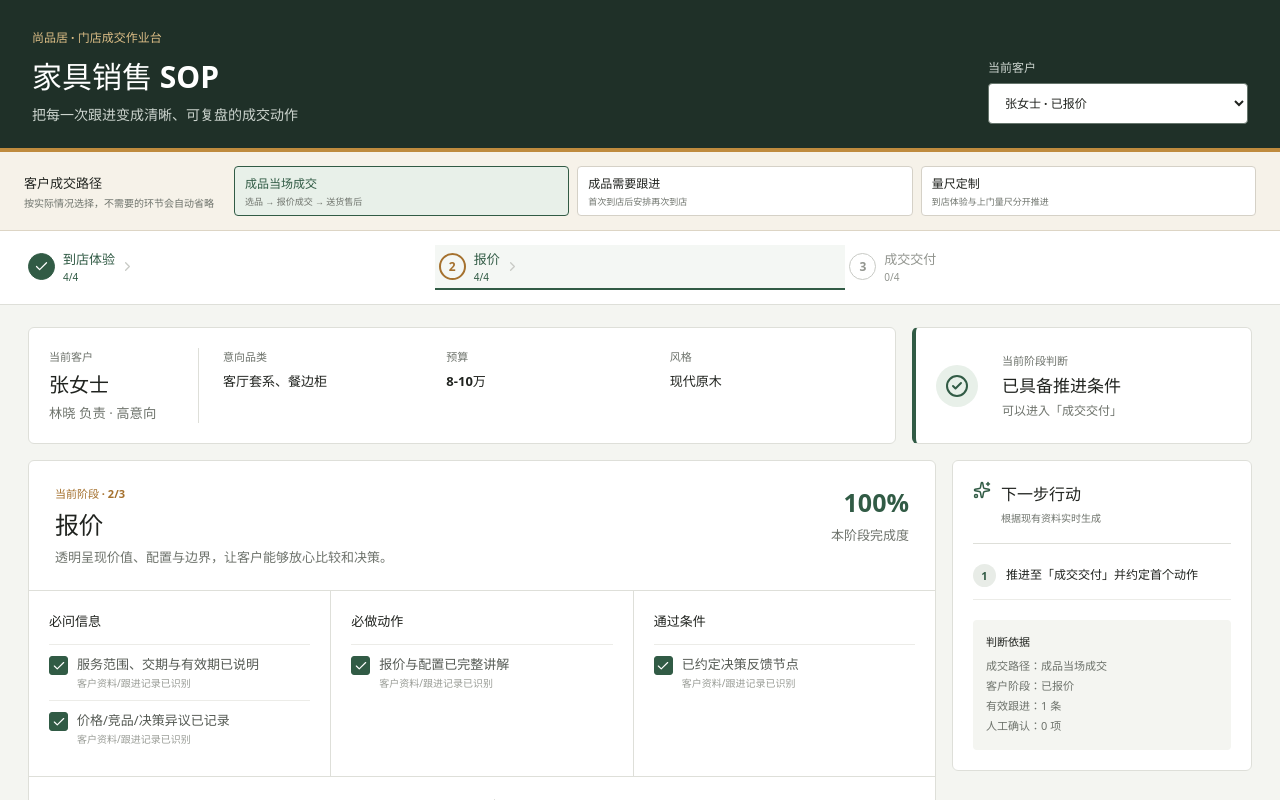
Scenario: SalesSopPage › switches paths and lets users open a separate stage from the stage track
Click the button "量尺定制 到店体验与上门量尺分开推进": (956, 184) [921, 166, 1256, 216]
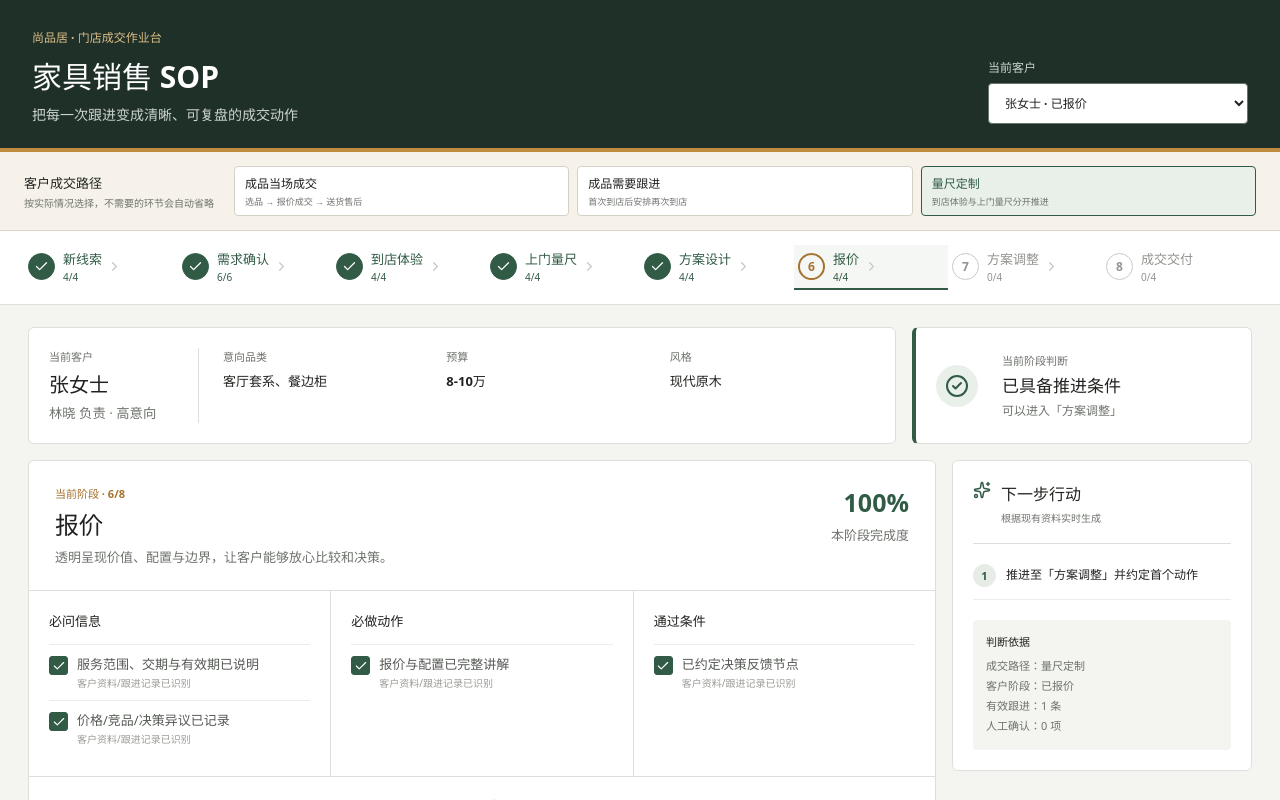
Click the button "上门量尺 4/4": (563, 268) [486, 245, 640, 290]
(page scrolled)
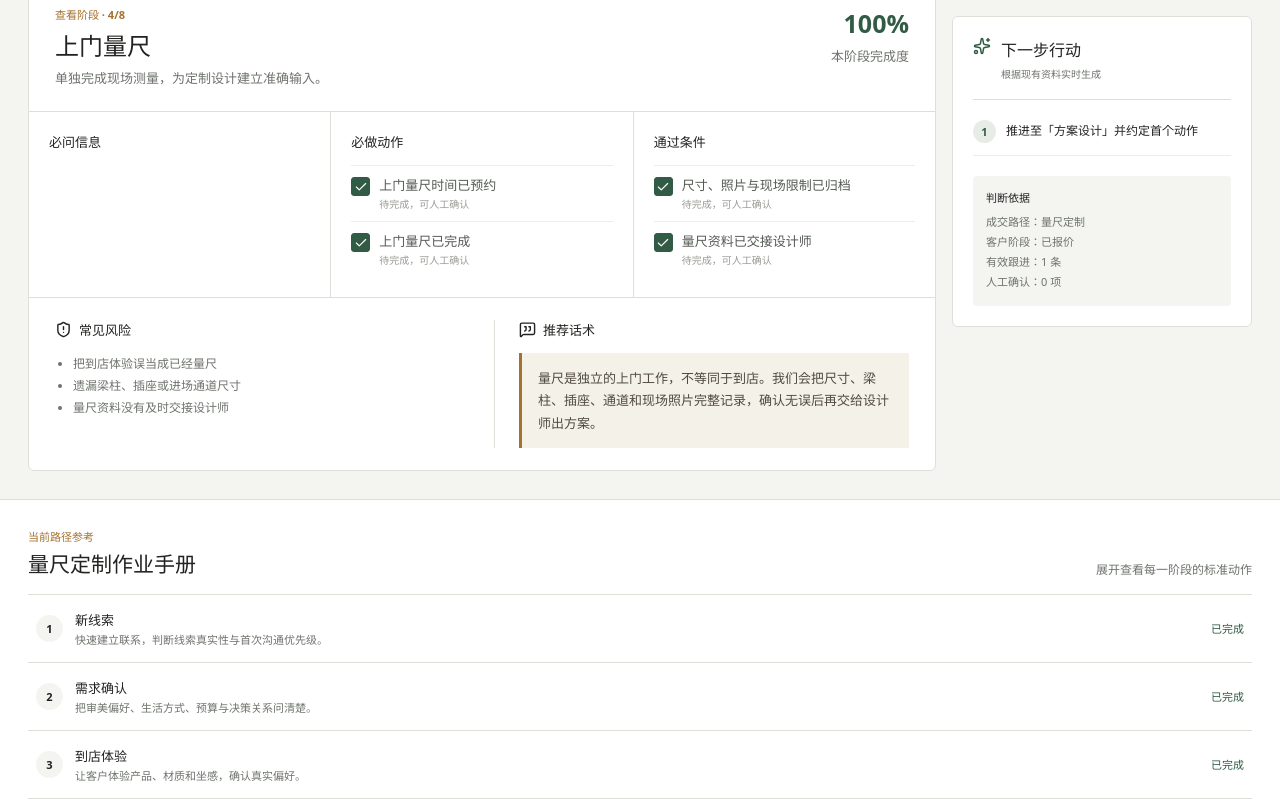
Now the text "查看阶段 · 4/8" is shown, box [55, 7, 125, 22]
Now the heading "上门量尺" is shown, box [55, 29, 151, 62]
Now the text "量尺是独立的上门工作，不等同于到店。" is shown, box [538, 369, 889, 432]
